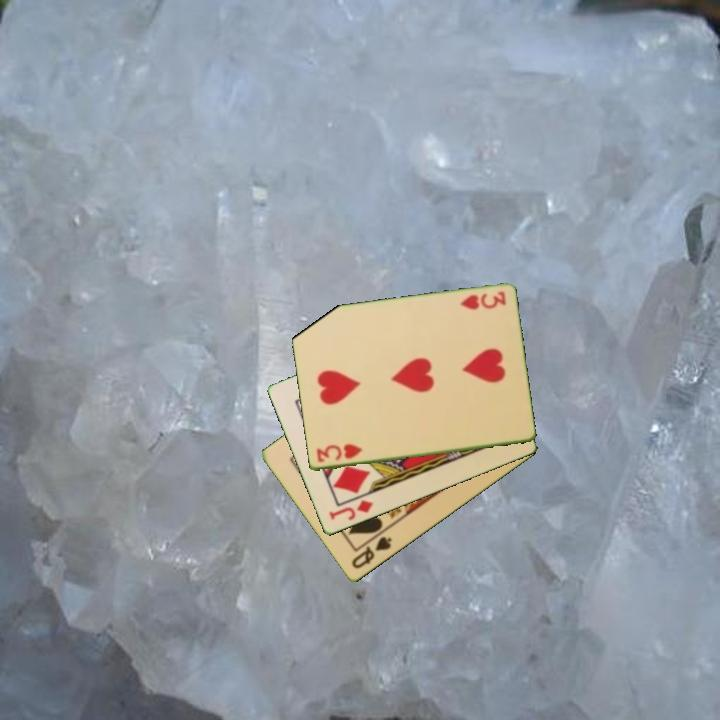3h: (313, 440, 365, 465), (456, 288, 508, 313)
Jd: (325, 497, 376, 524)
Qs: (348, 533, 395, 572)
